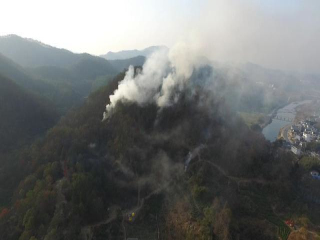smoke: (97, 9, 299, 123)
